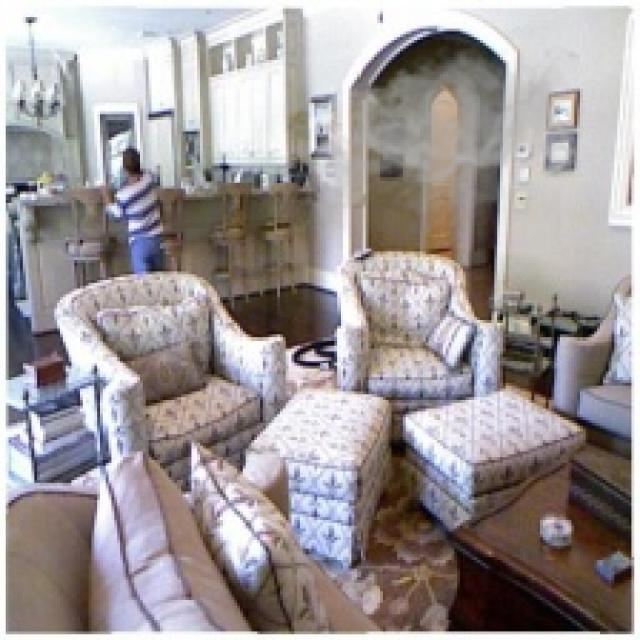smoke: (303, 40, 580, 249)
